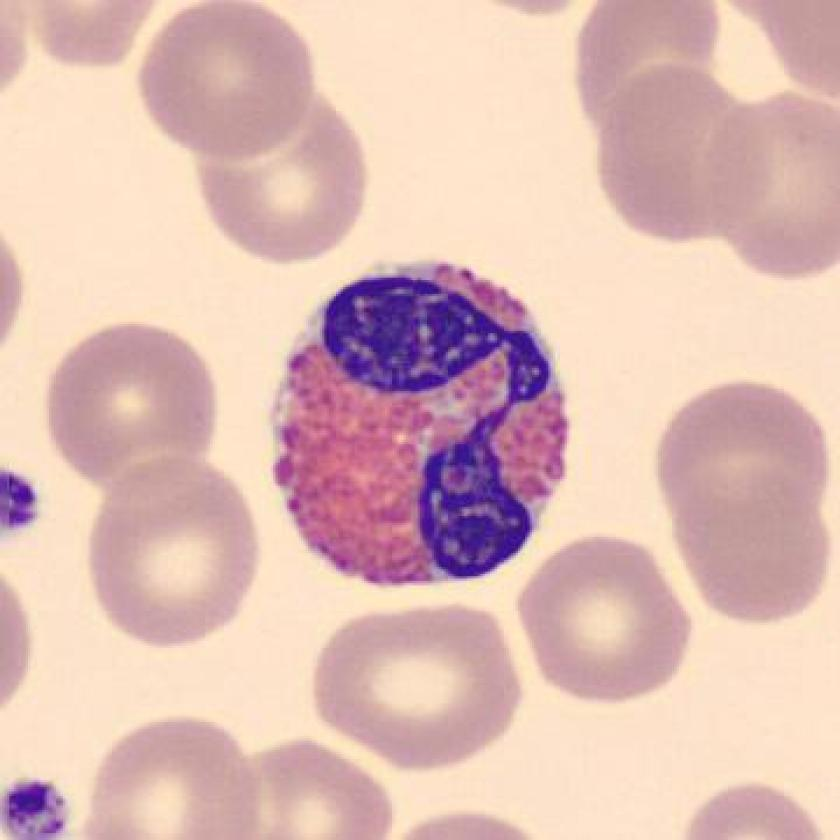eosinophil: (253, 247, 584, 601)
